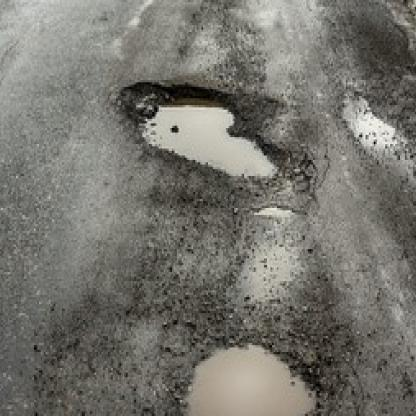pothole: (120, 78, 284, 183), (177, 336, 324, 416)
